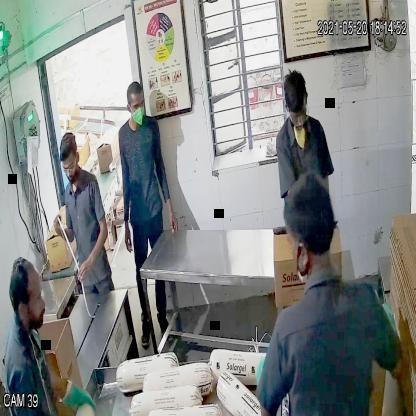goggles: (286, 100, 311, 131), (58, 160, 78, 179)
no_goggles: (124, 98, 148, 114)
